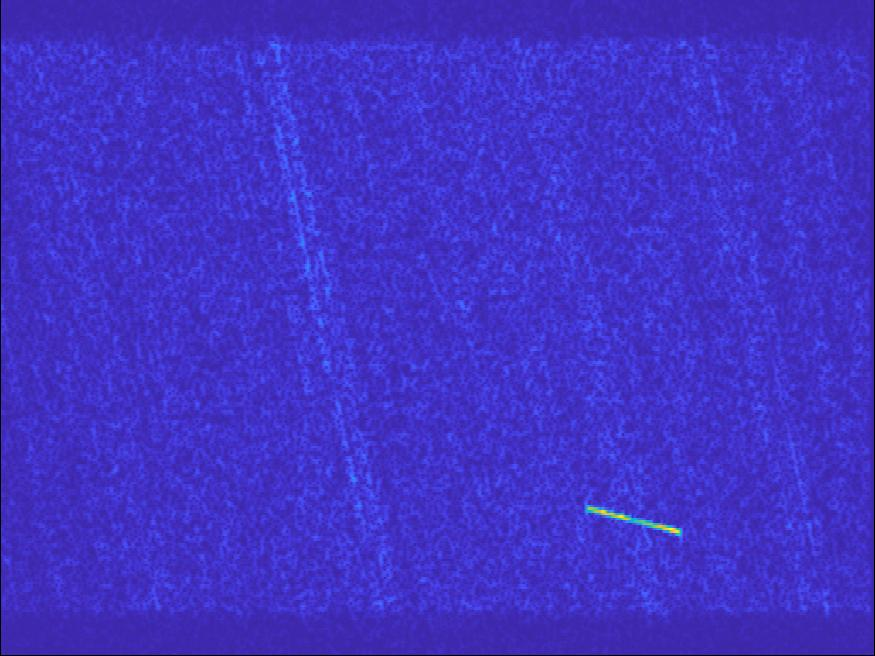Interference: (240, 340, 443, 486), (482, 290, 692, 363), (110, 253, 234, 299), (433, 505, 533, 542)
